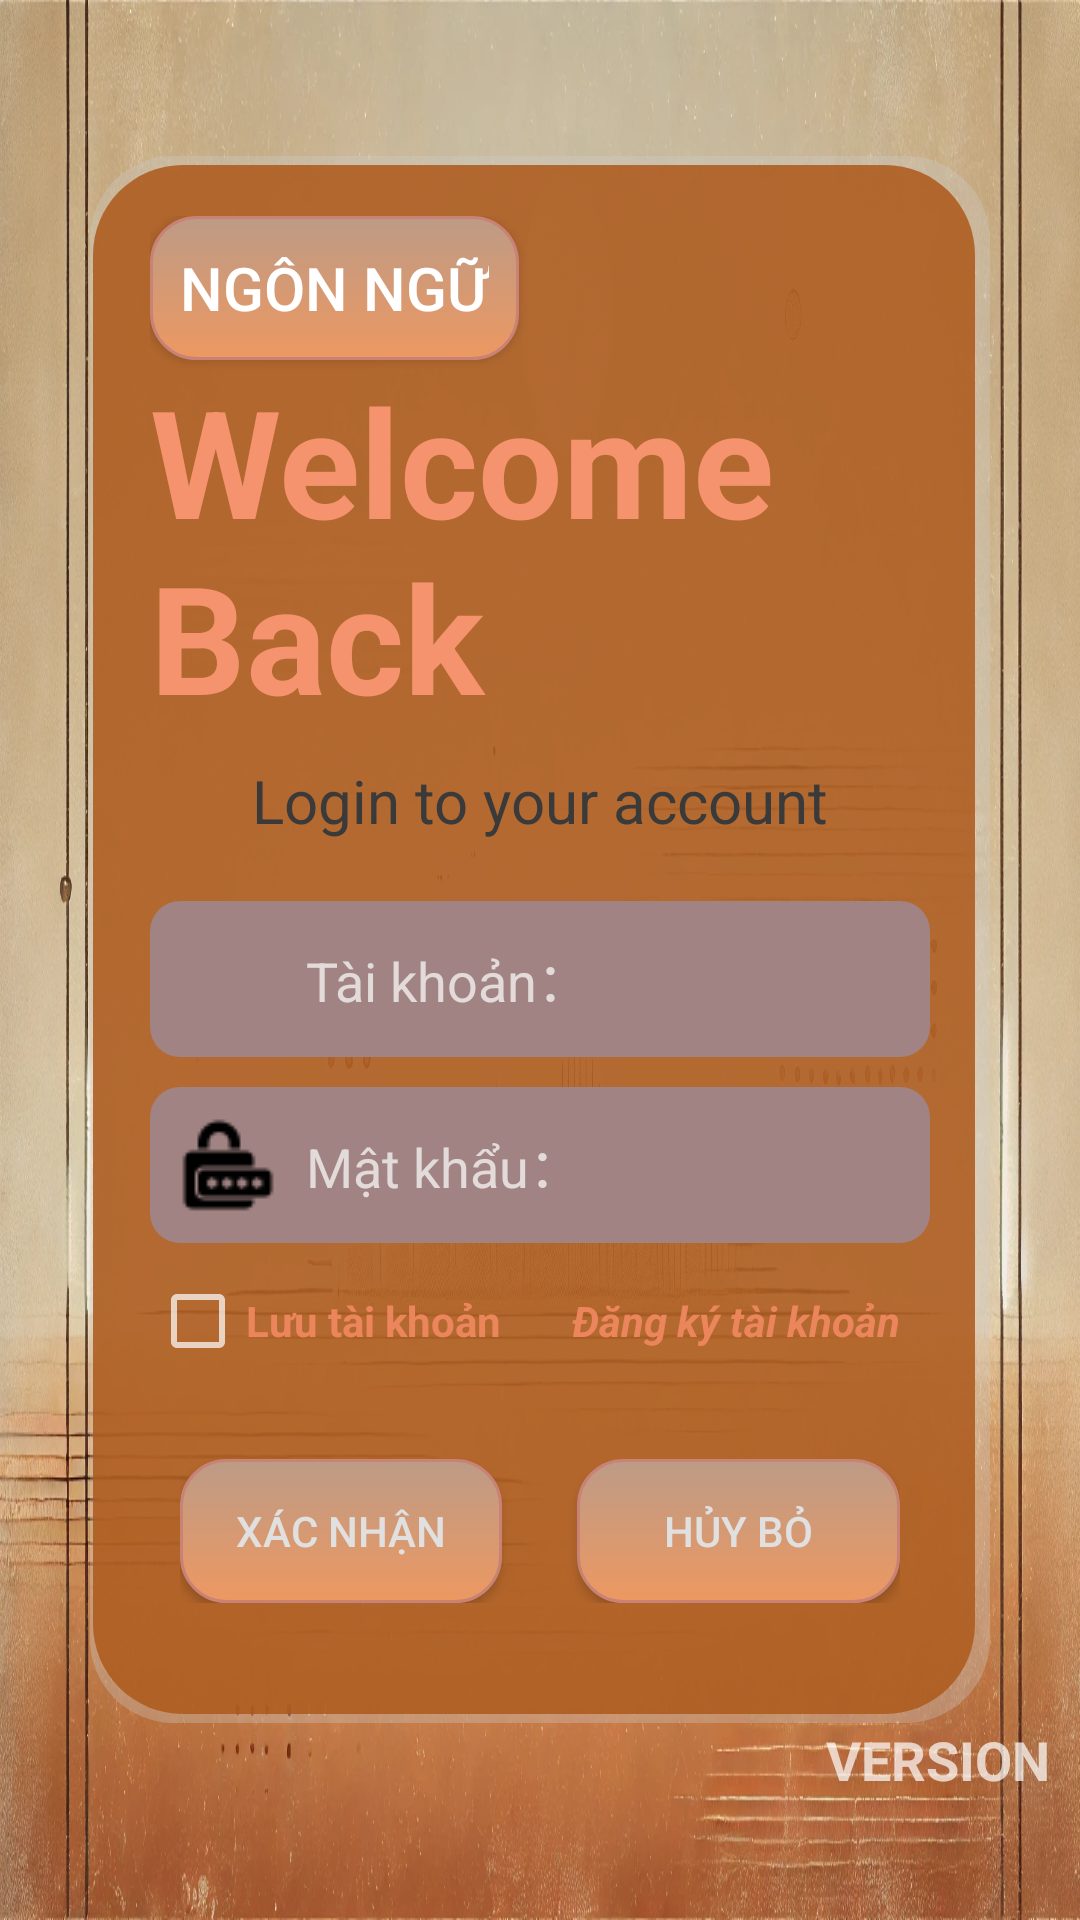

Icons on this 1080px×1920px Android screen, each with its box as bbox=(x1, y1, x2, y2):
password: bbox=(182, 1120, 274, 1211)
